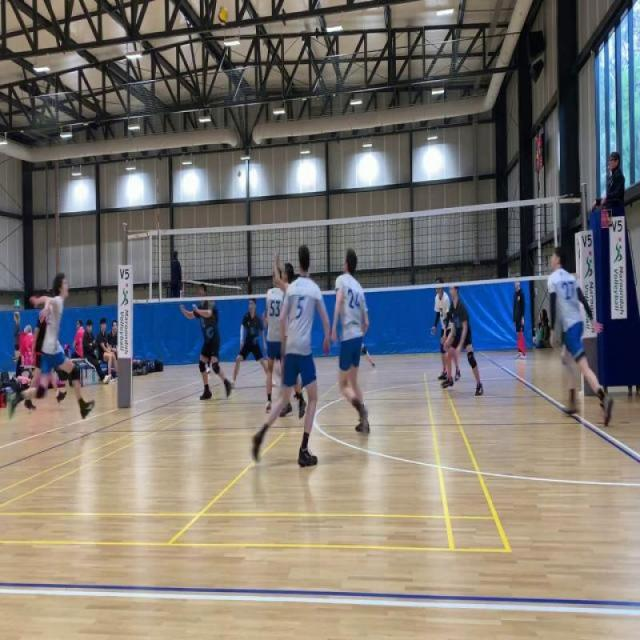volleyball: (216, 5, 228, 28), (236, 170, 242, 178)
